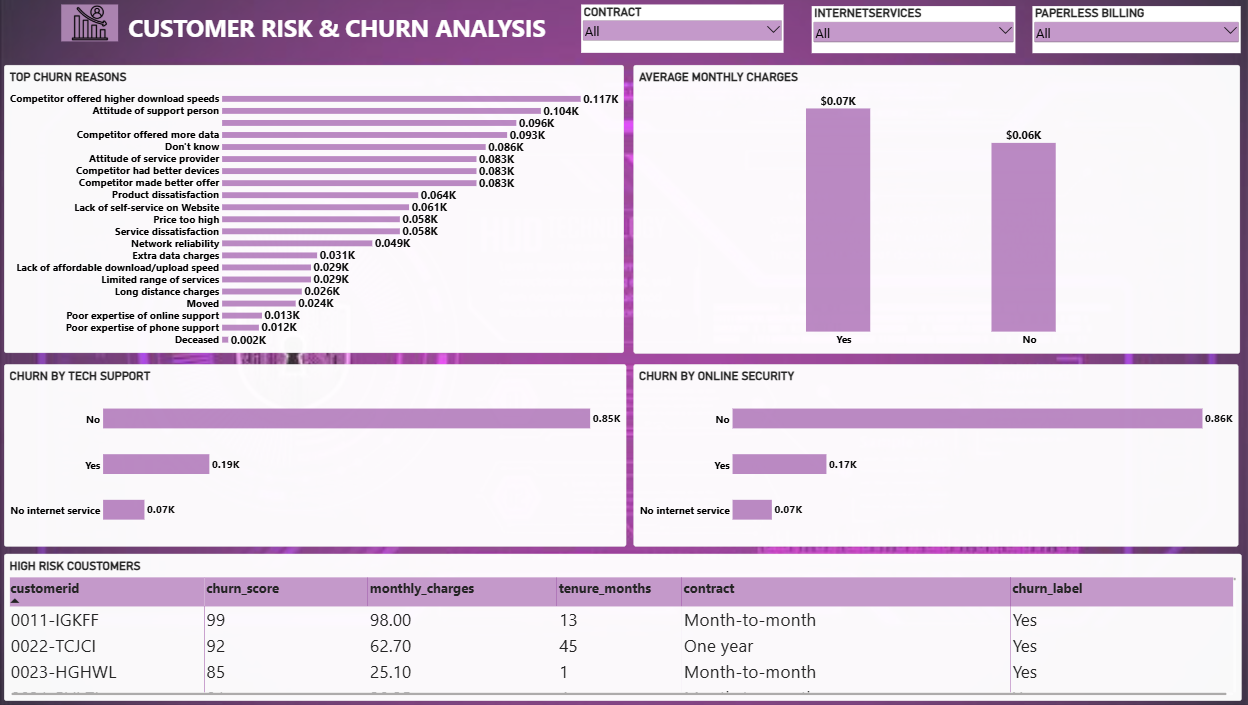

This screenshot's page, from the dashboard's own definition file:
{"tool":"powerbi","page":{"name":" Page 2","canvas":[3840,2180],"ordinal":1},"visuals":[{"type":"clusteredBarChart","title":"TOP CHURN REASONS","fields":{"Category":["customer_churn.churn_reason"],"Y":["CountNonNull(customer_churn.customerid)"]},"box":[21.8,204.9,1896.5,881.3],"z":0},{"type":"clusteredColumnChart","title":"AVERAGE MONTHLY CHARGES","fields":{"Category":["customer_churn.churn_label"],"Y":["customer_churn.Avg Monthly Charges"]},"box":[1945,205,1855,882.5],"z":1000},{"type":"textbox","box":[17.6,0,3819.5,188.8],"z":2000},{"type":"clusteredBarChart","title":"CHURN BY TECH SUPPORT","fields":{"Category":["customer_churn.tech_support"],"Y":["customer_churn.Churned Customers"]},"box":[17.5,1120,1902.5,557.5],"z":3000},{"type":"clusteredBarChart","title":"CHURN BY ONLINE SECURITY","fields":{"Category":["customer_churn.online_security"],"Y":["customer_churn.Churned Customers"]},"box":[1945,1120,1850,557.5],"z":4000},{"type":"textbox","box":[401.1,39.2,3078.2,200.6],"z":5000},{"type":"slicer","fields":{"Values":["customer_churn.internet_service"]},"box":[2489.6,26.2,623.5,143.9],"z":6000},{"type":"image","box":[196.2,21.8,174.4,113.4],"z":7000},{"type":"slicer","fields":{"Values":["customer_churn.contract"]},"box":[1783.2,21.8,619.1,148.2],"z":8000},{"type":"slicer","fields":{"Values":["customer_churn.paperless_billing"]},"box":[3165.4,26.2,636.6,143.9],"z":9000},{"type":"tableEx","title":"HIGH RISK COUSTOMERS","fields":{"Values":["customer_churn.customerid","customer_churn.churn_score","customer_churn.monthly_charges","customer_churn.tenure_months","customer_churn.contract","customer_churn.churn_label"]},"box":[17.5,1700,3785,450],"z":10000}]}

Visuals, with their boxes in screenshot pixels (x1, y1, x2, y2), scaled from the page's 3840x2180 canvas onto the 1248x705 screenshot:
"TOP CHURN REASONS" clusteredBarChart: locate(7, 66, 623, 351)
"AVERAGE MONTHLY CHARGES" clusteredColumnChart: locate(632, 66, 1235, 352)
textbox: locate(6, 0, 1247, 61)
"CHURN BY TECH SUPPORT" clusteredBarChart: locate(6, 362, 624, 542)
"CHURN BY ONLINE SECURITY" clusteredBarChart: locate(632, 362, 1233, 542)
textbox: locate(130, 13, 1131, 78)
slicer - customer_churn.internet_service: locate(809, 8, 1012, 55)
image: locate(64, 7, 120, 44)
slicer - customer_churn.contract: locate(580, 7, 781, 55)
slicer - customer_churn.paperless_billing: locate(1029, 8, 1236, 55)
"HIGH RISK COUSTOMERS" tableEx: locate(6, 550, 1236, 695)
